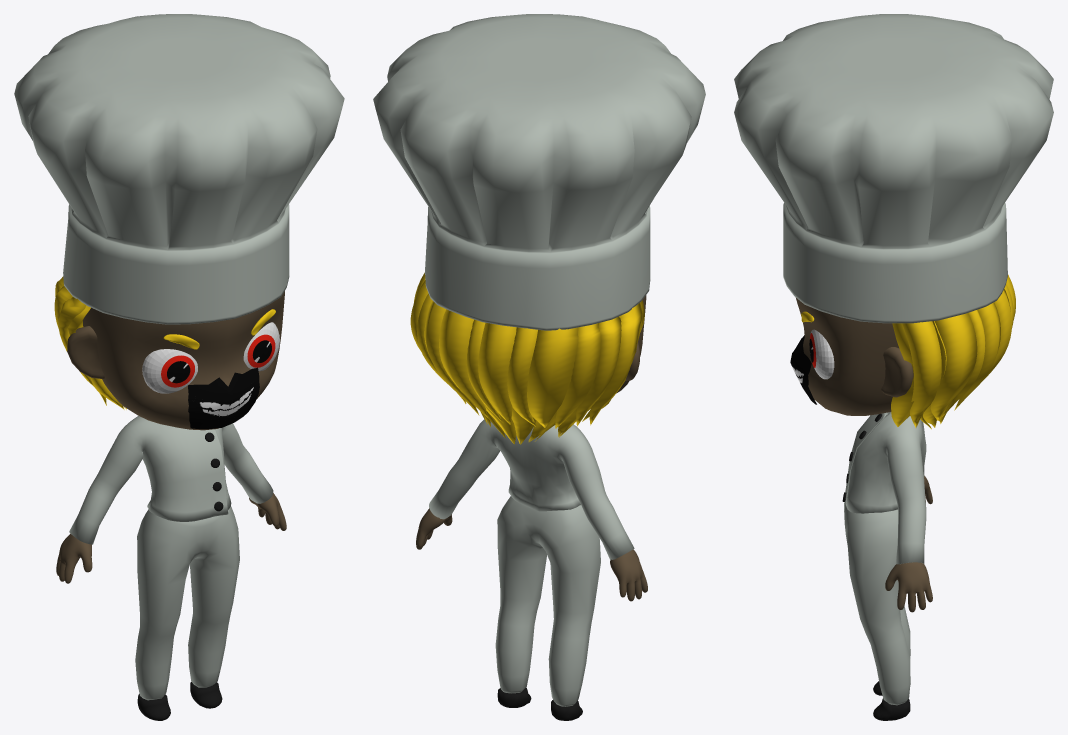
The model's file is Chef.fbx.
3 views of the same model, side by side, from view 1: azimuth 30°, elevation 25°; view 2: azimuth 150°, elevation 25°; view 3: azimuth 270°, elevation 25° (orthographic).
Visible parts, largest first — view 1: Chef; view 2: Chef; view 3: Chef.
Part boxes in pixels (x1,y1,x2,y2): Chef: (14, 14, 344, 720); Chef: (373, 14, 705, 720); Chef: (734, 14, 1053, 720).
Size of the model in its own units: 58.67 by 127 by 57.12.
9 materials, 1 textured.
